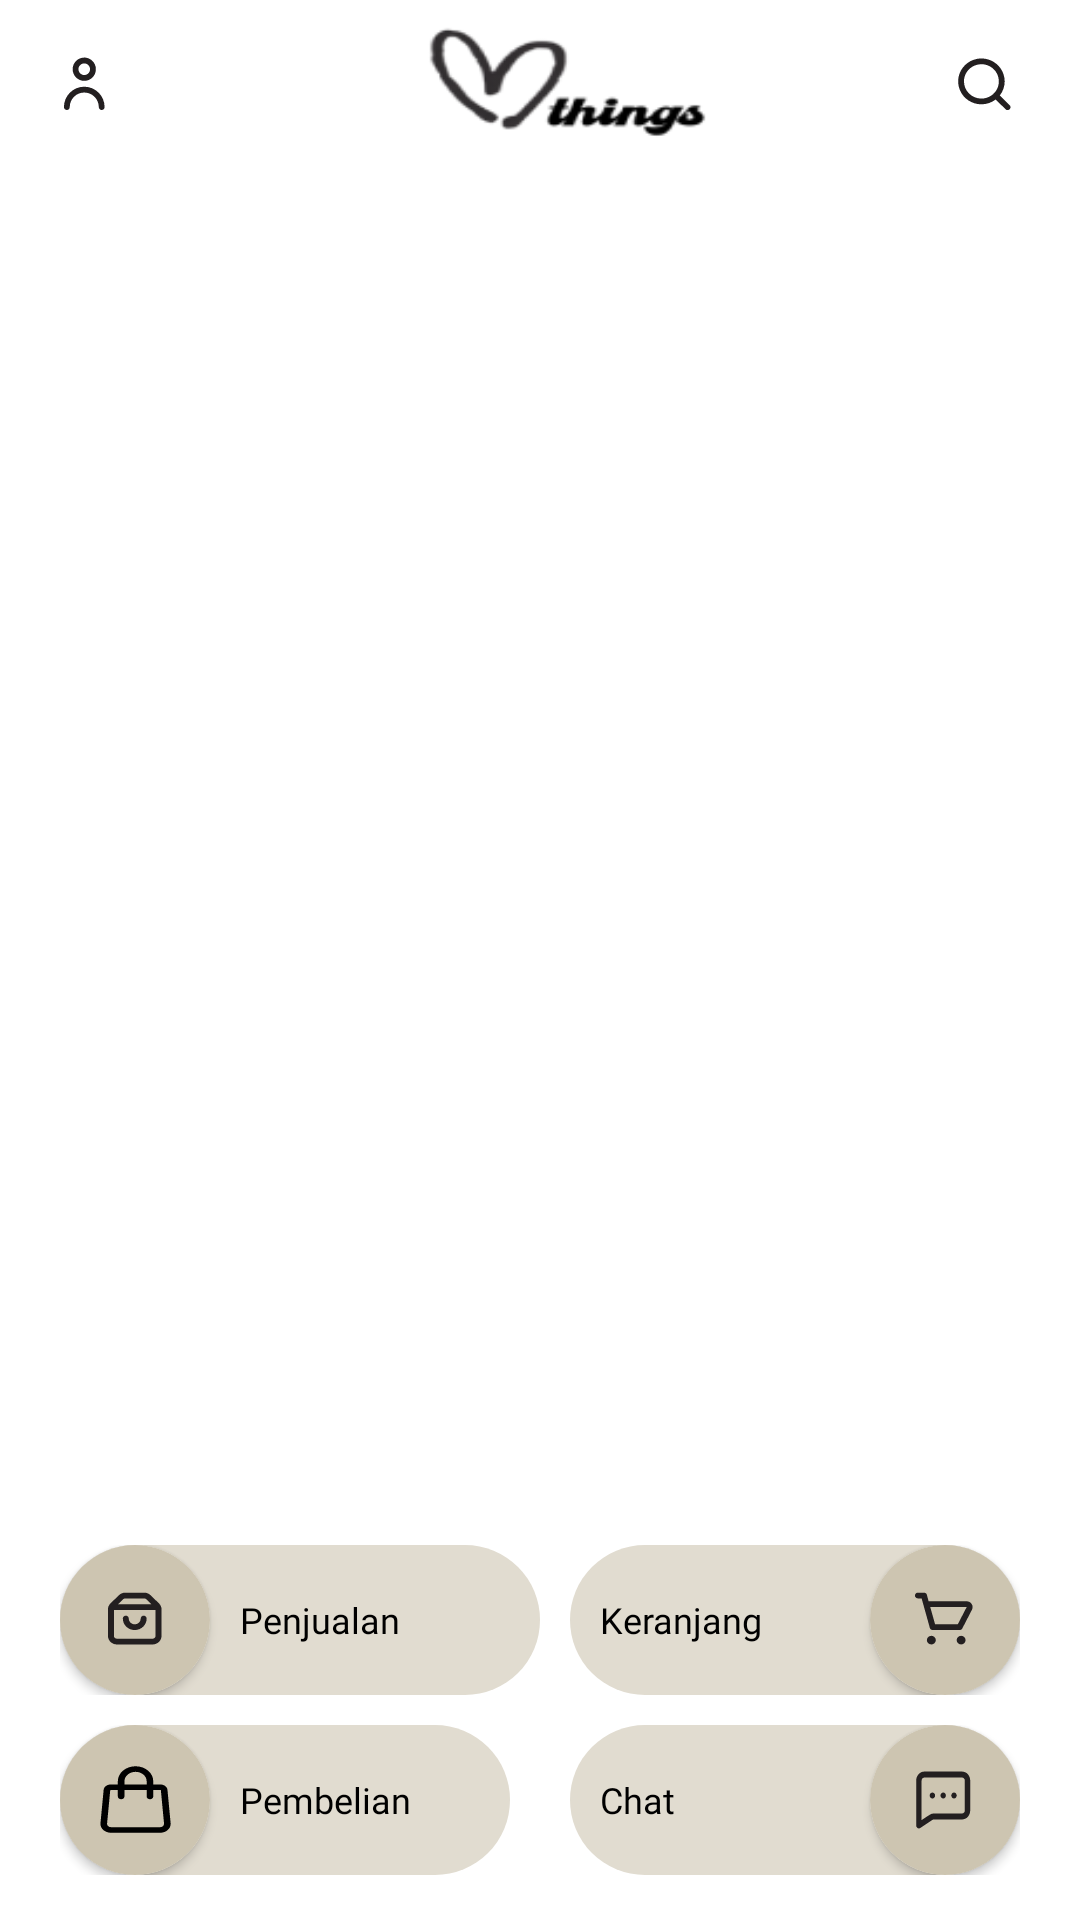

Screen size 1080*1920. Icon name, then its box in pixels as (x1, y1, x2, y2):
search: (958, 58, 1011, 110)
user: (64, 57, 105, 110)
